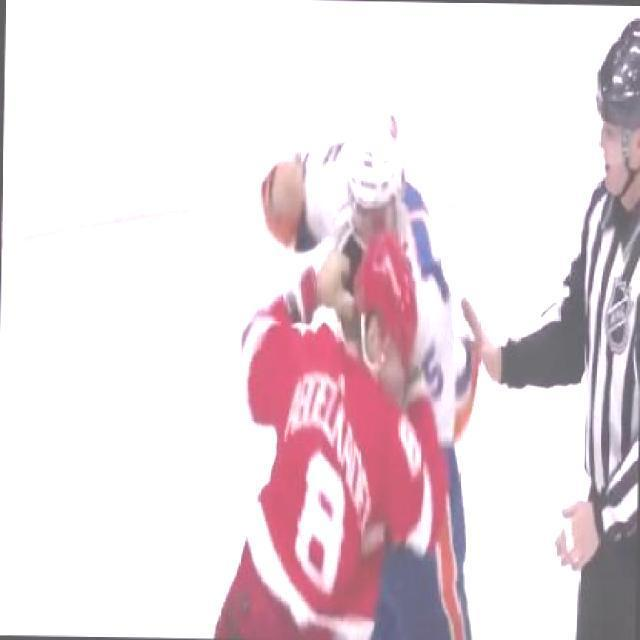fight: (230, 94, 476, 638)
